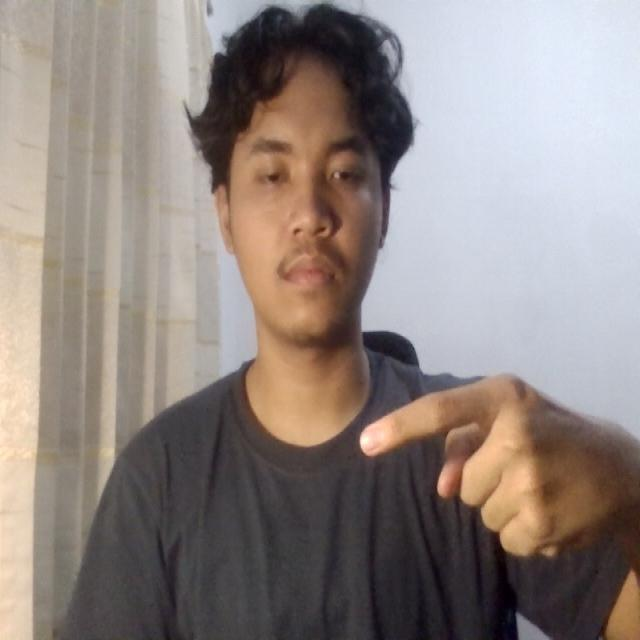N: (333, 352, 617, 565)
